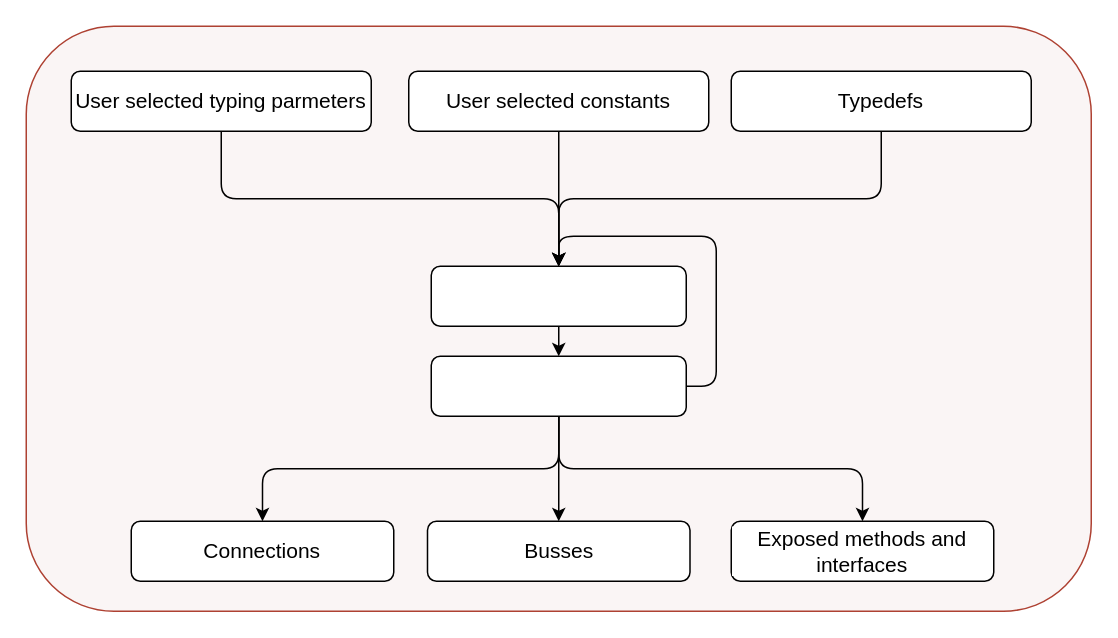
Some shapes in this 1118 by 638 pixel diagram are drawn without their labels. Each missing label, with the box of its shape:
Interfaces and methods: (430, 355, 686, 416)
Modules and Functions: (430, 265, 686, 326)
